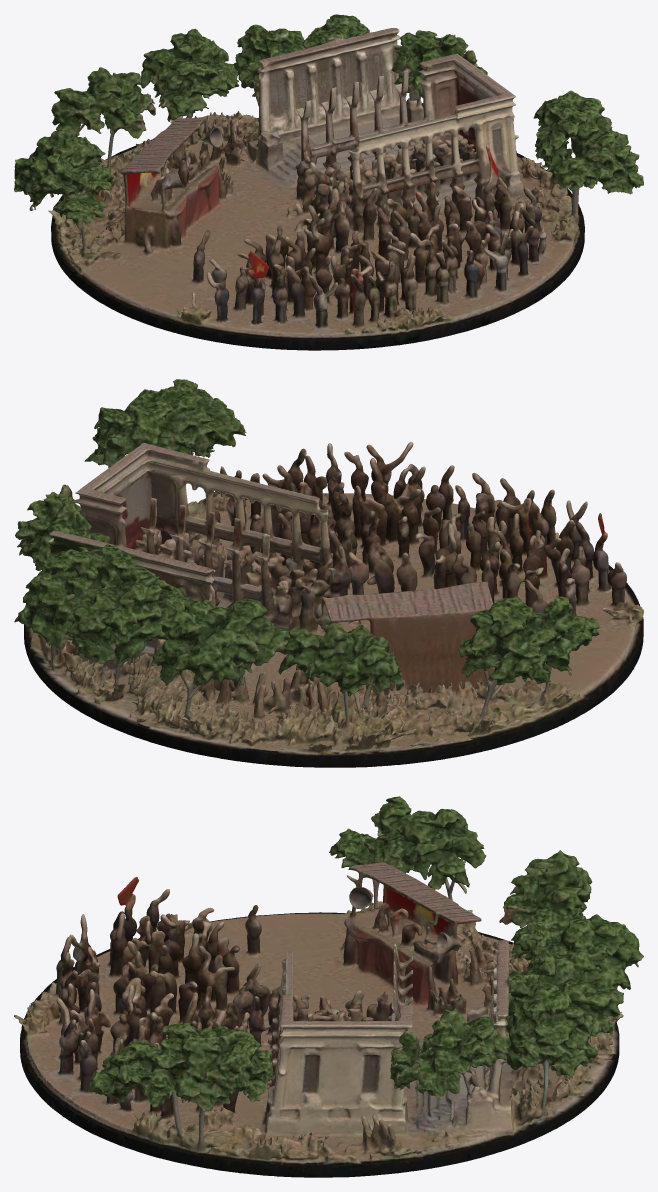
File: thang_loi_toan_quoc.glb
3 views of the same model, one above another, from view 1: azimuth 30°, elevation 25°; view 2: azimuth 150°, elevation 25°; view 3: azimuth 270°, elevation 25° (orthographic). The views are drawn at different scales.
Size of the model in its own units: 1.87 by 0.4335 by 1.81.
1 material, 1 textured.
